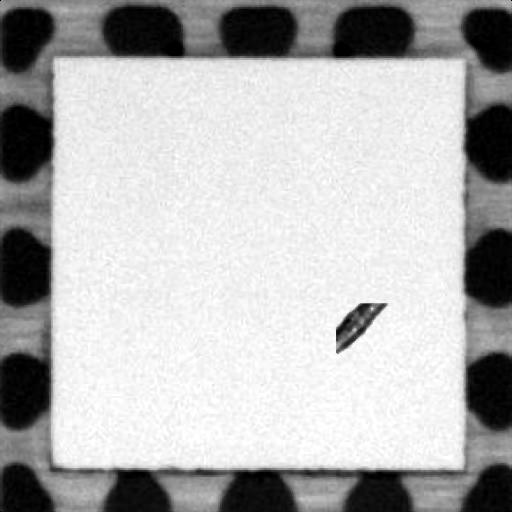DIE_INK: (334, 302, 384, 349)
